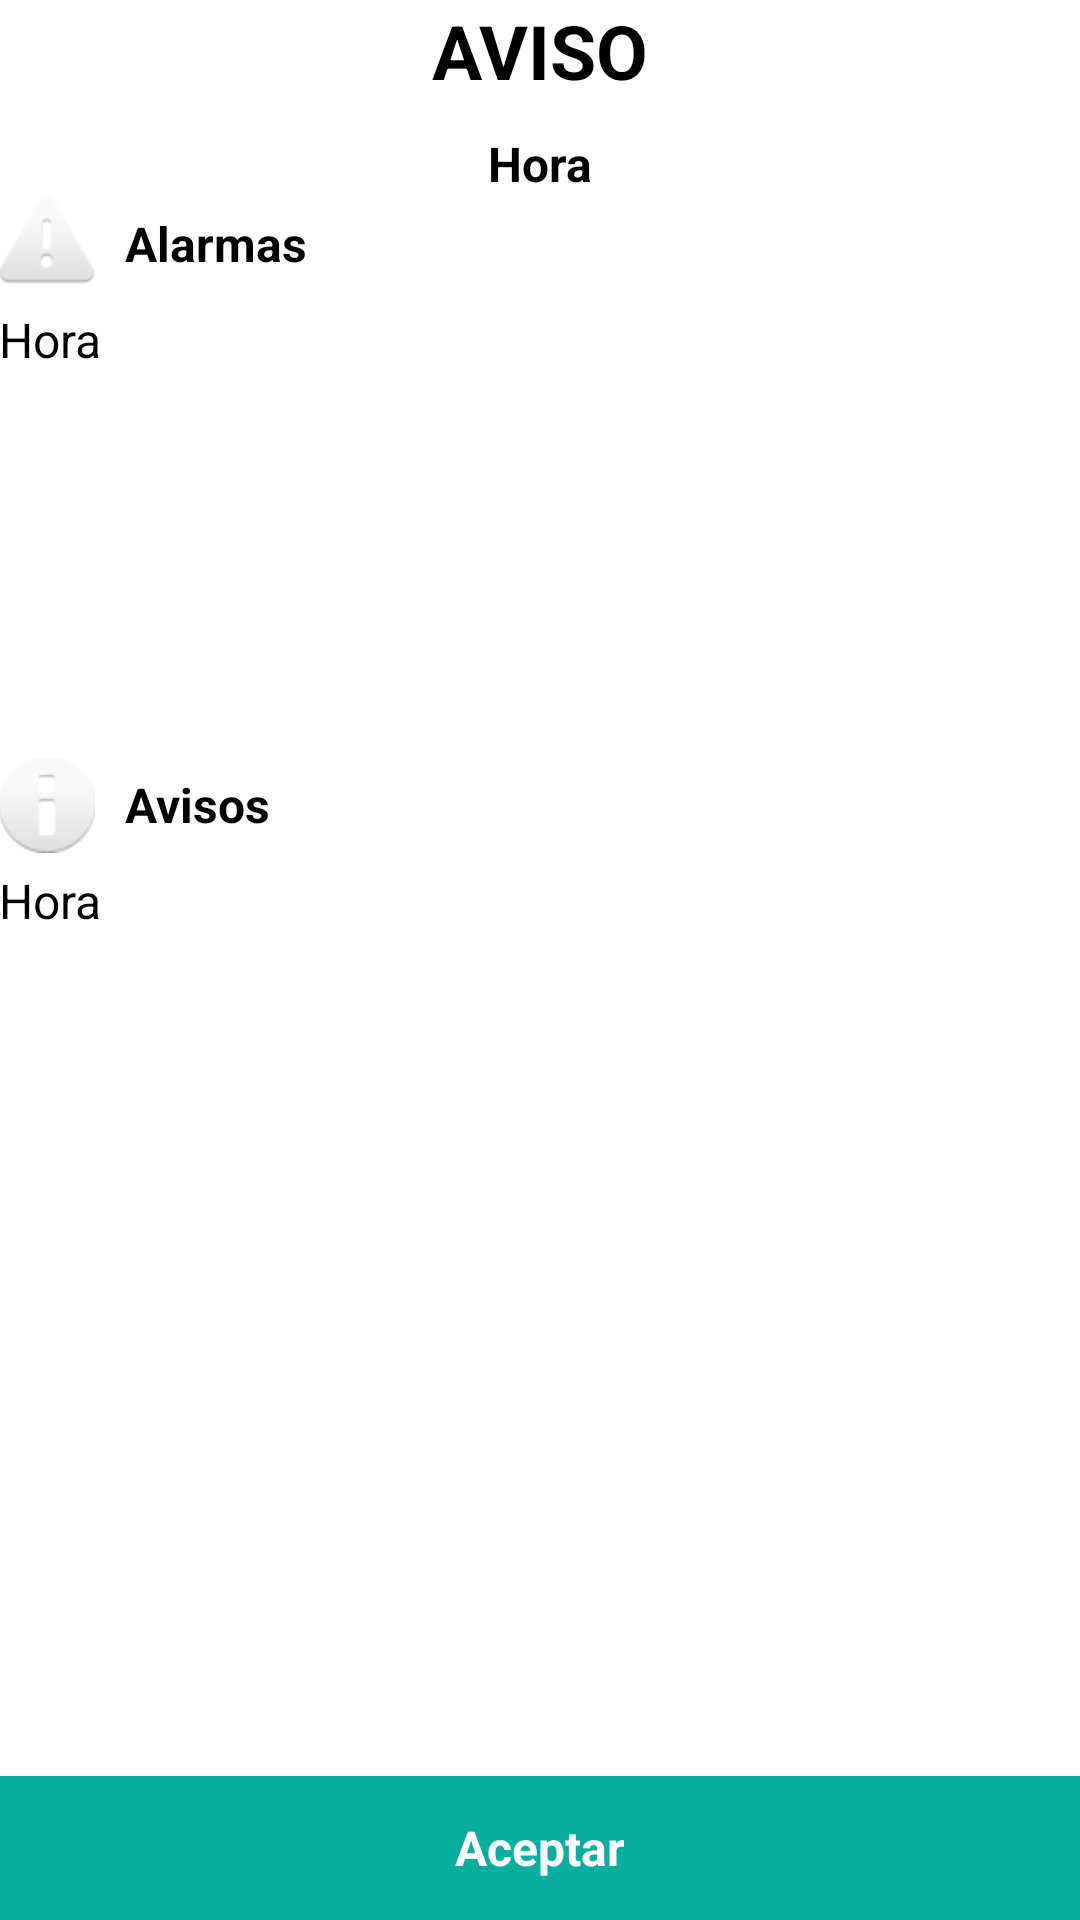

Point at icon controls on the screen. Image size 1080x1920, points as point (x, y).
alert: point (47, 250)
info: point (47, 814)
